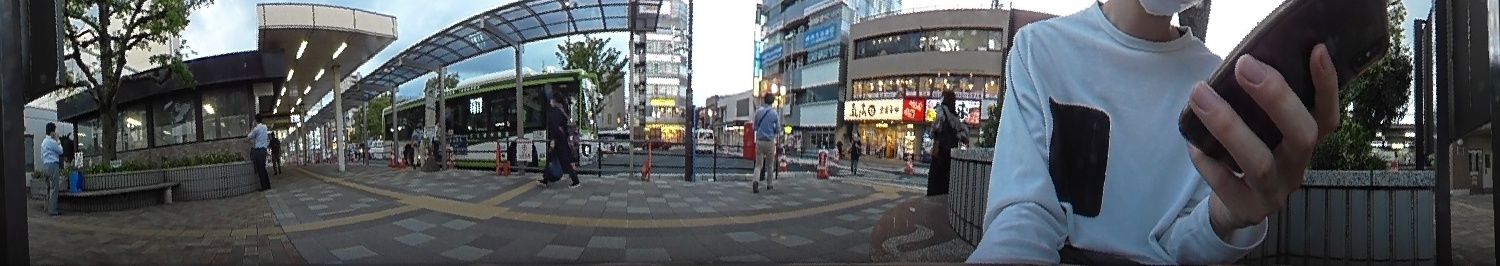difficult_person: (265, 129, 285, 172), (847, 128, 862, 169)
person: (921, 87, 963, 194), (541, 91, 583, 190), (750, 90, 780, 194), (40, 120, 67, 214), (244, 112, 272, 190)
